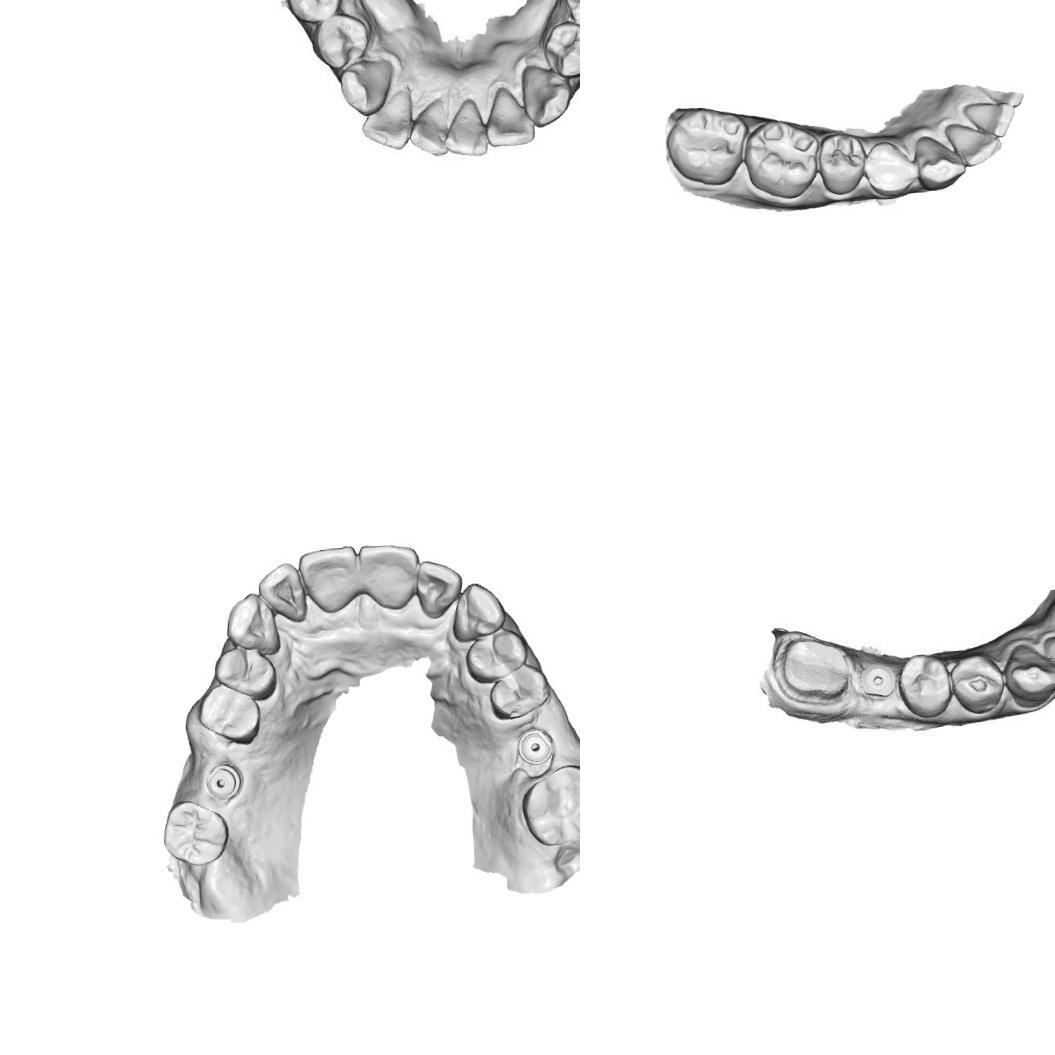canine: (448, 580, 507, 642), (224, 591, 280, 656), (1000, 639, 1055, 705), (338, 58, 396, 117), (910, 132, 966, 191), (520, 62, 570, 122)
crown: (777, 632, 856, 701)
implant: (858, 659, 898, 704), (202, 760, 242, 802), (515, 726, 554, 766)
incisor: (296, 542, 361, 615), (357, 540, 422, 611), (360, 88, 416, 150), (256, 560, 308, 624), (414, 557, 464, 620), (942, 119, 1003, 168), (486, 88, 532, 148), (410, 100, 456, 160), (448, 98, 487, 159), (962, 99, 1016, 139)
molar: (664, 103, 751, 189), (741, 115, 822, 202), (158, 796, 230, 869), (519, 762, 580, 847)
premolar: (196, 681, 262, 746), (896, 651, 956, 720), (308, 7, 372, 70), (950, 652, 1011, 718), (212, 644, 278, 703), (486, 661, 551, 720), (463, 626, 529, 684), (816, 130, 868, 196), (863, 138, 916, 199), (542, 19, 580, 82), (275, 0, 344, 28)
